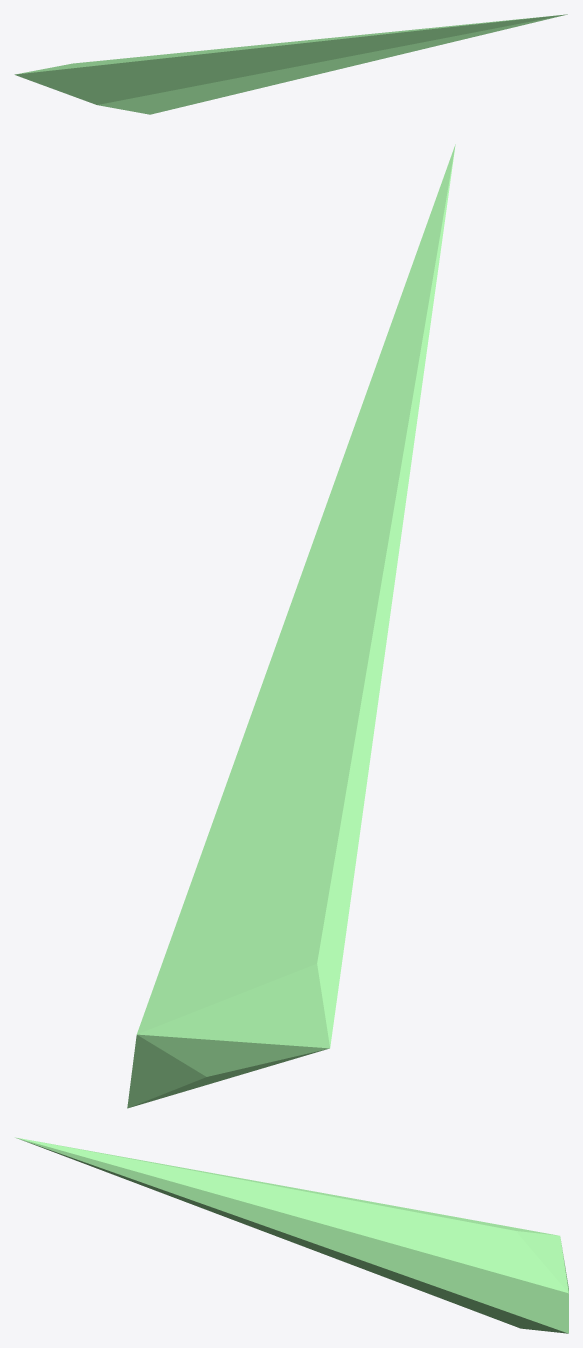
Rendered from linkhou_robot_base_coll_2.dae.
3 views of the same model, one above another, from view 1: azimuth 30°, elevation 25°; view 2: azimuth 150°, elevation 25°; view 3: azimuth 270°, elevation 25° (orthographic). The views are drawn at different scales.
Visible parts, largest first — view 1: Node_00000298084313B0; view 2: Node_00000298084313B0; view 3: Node_00000298084313B0.
Boxes of the visible parts, bbox=[...] form: Node_00000298084313B0: bbox=[14, 14, 567, 114]; Node_00000298084313B0: bbox=[127, 144, 455, 1108]; Node_00000298084313B0: bbox=[15, 1137, 568, 1333].
Size of the model in its own units: 0.0711 by 0.0813 by 0.1624.
